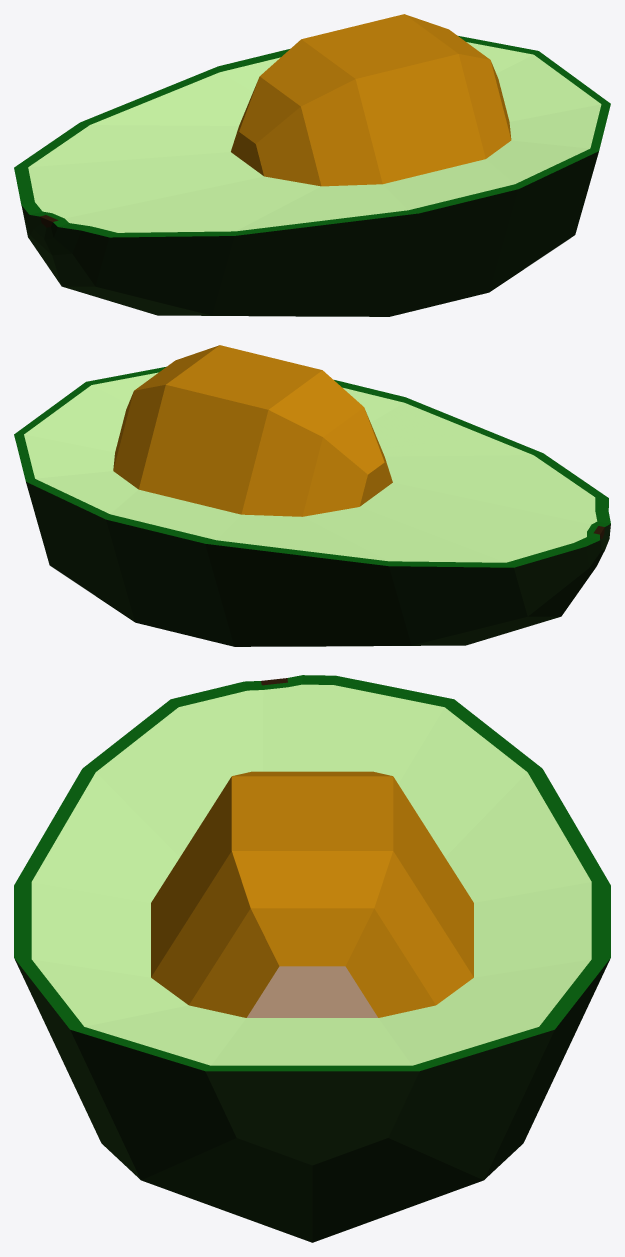
File: avocado02.gltf
3 renders of one model, top to bottom at view 1: azimuth 30°, elevation 25°; view 2: azimuth 150°, elevation 25°; view 3: azimuth 270°, elevation 25°, orthographic. The views are drawn at different scales.
Visible parts, largest first — view 1: Cylinder.001; view 2: Cylinder.001; view 3: Cylinder.001.
Part boxes in pixels (left/top/right/bottom): Cylinder.001: left=14, top=14, right=610, bottom=316; Cylinder.001: left=14, top=345, right=610, bottom=646; Cylinder.001: left=14, top=675, right=610, bottom=1242.
Size of the model in its own units: 0.0928 by 0.0412 by 0.0588.
Materials: 1 (1 with a texture image).
